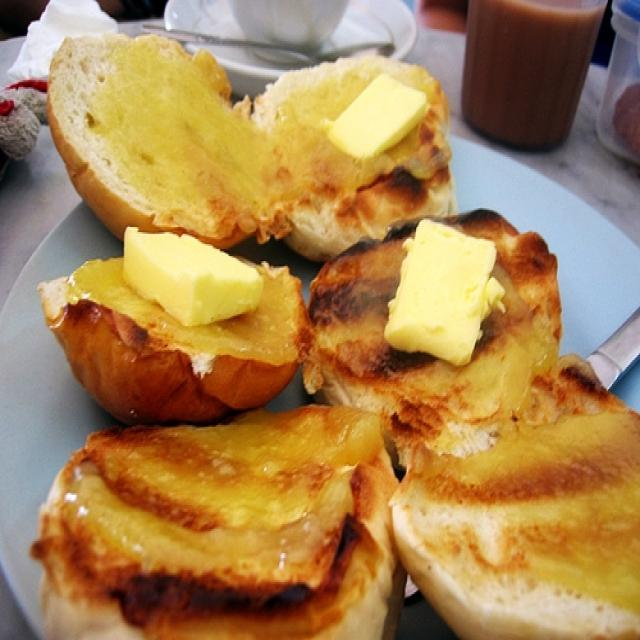面包点心: (27, 36, 630, 621)
